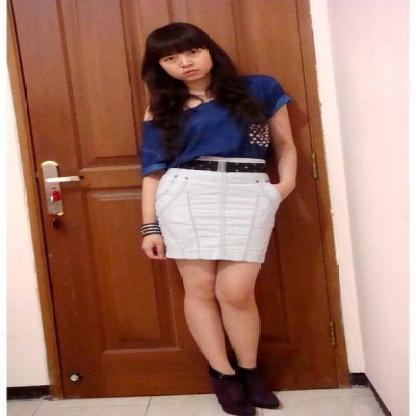jacket: (143, 105, 152, 121)
shirt: (139, 75, 286, 179)
shoe: (208, 358, 281, 415)
skirt: (162, 158, 286, 260)
